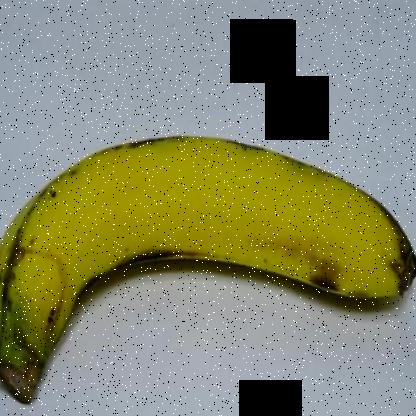freshripe: (1, 118, 415, 409)
